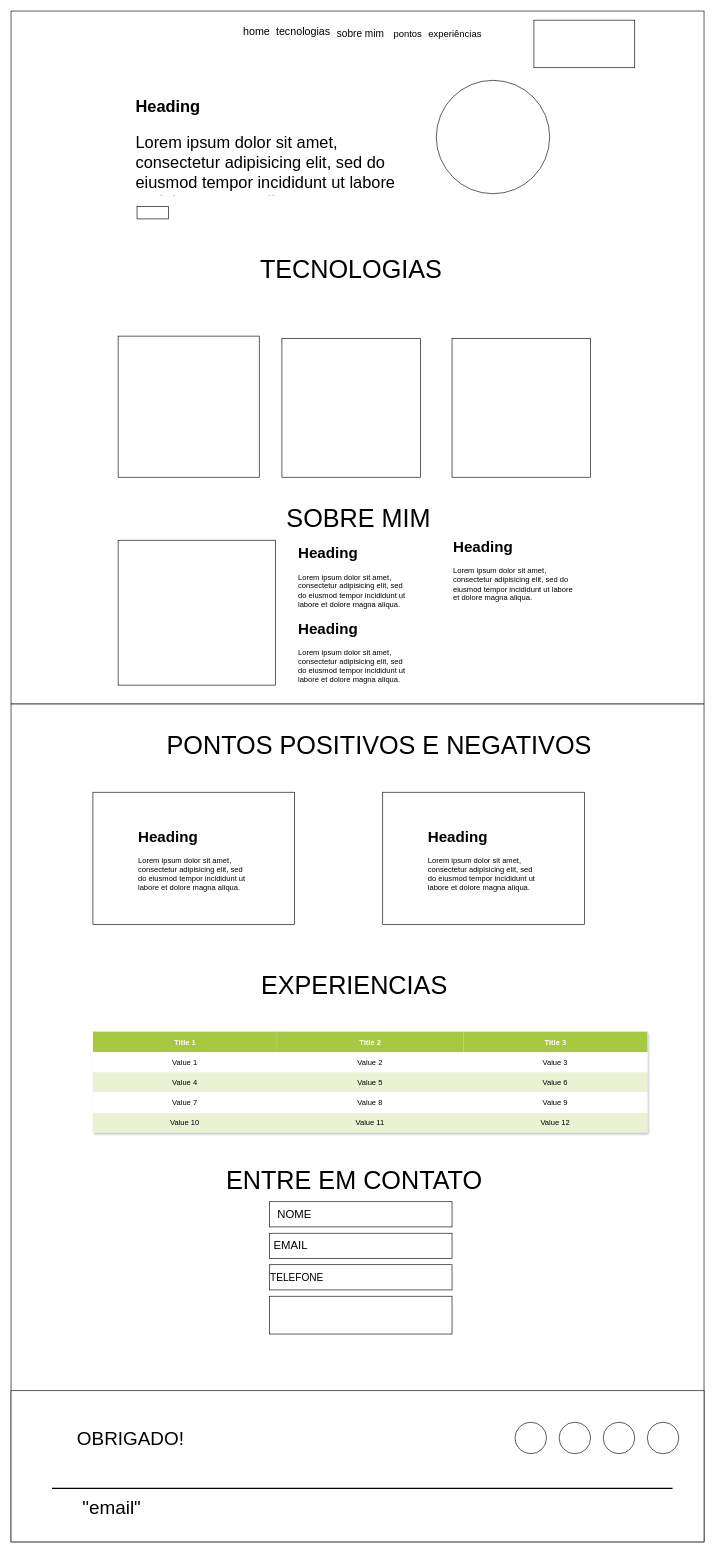
The diagram is 715 pixels wide and 1553 high, and some of its shapes have lost their labels. Each missing label, with the centre of its shape:
contato: the point at 584,44
foto: the point at 493,137
MENSAGEM: the point at 360,1315
